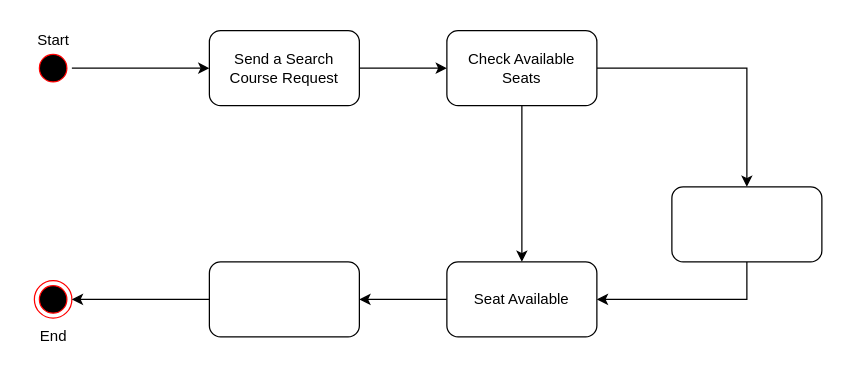
This 844x376 diagram has some shape labels left out. The centre of each missing label's shape, as x and y in pixels:
"Get Course Enrollment Info" belongs at (746,224).
"Return Course Info" belongs at (283,299).
